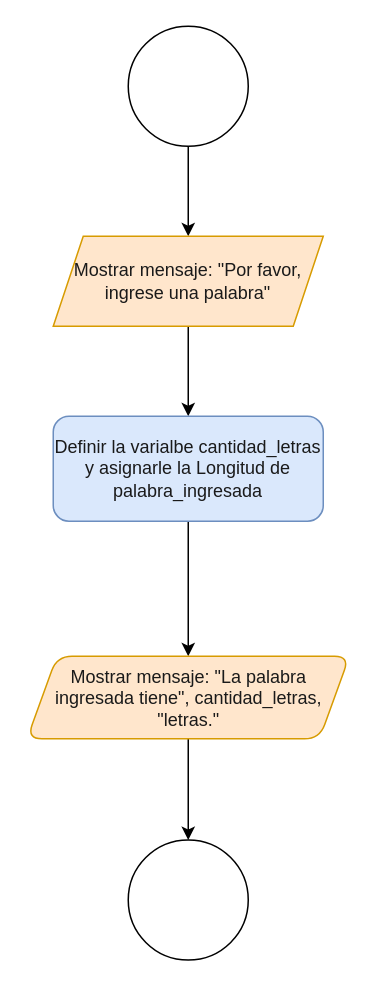
Image size: 375x987. Some labels were removed from this diagram. Each missing label, with the box of its shape:
Fin: (127, 838, 248, 960)
Inicio: (127, 25, 248, 146)
